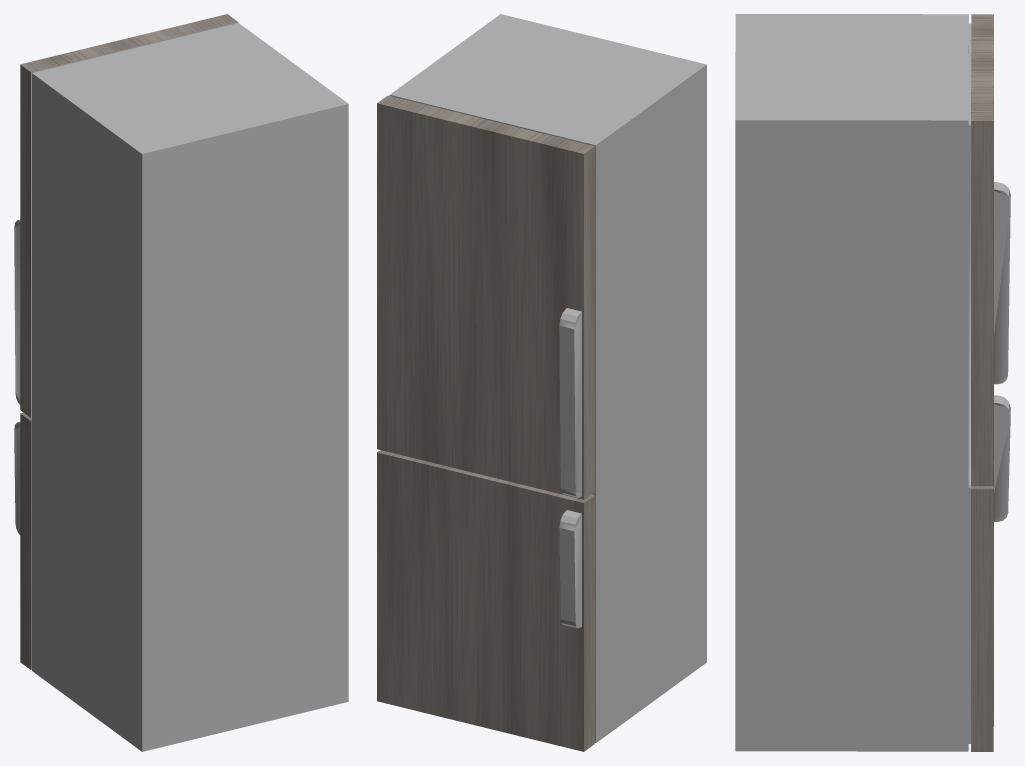
File: frl_apartment_refrigerator.glb
3 views of the same model, side by side, from view 1: azimuth 30°, elevation 25°; view 2: azimuth 150°, elevation 25°; view 3: azimuth 270°, elevation 25° (orthographic). The views are drawn at different scales.
Visible parts, largest first — view 1: frl_apartment_refrigerator; view 2: frl_apartment_refrigerator; view 3: frl_apartment_refrigerator.
Boxes of the visible parts, x1,y1,x2,y2 form: frl_apartment_refrigerator: (14,14,348,751); frl_apartment_refrigerator: (377,14,706,751); frl_apartment_refrigerator: (735,14,1010,751).
Size of the model in its own units: 0.6967 by 1.92 by 0.7588.
Materials: 4 (1 with a texture image).
